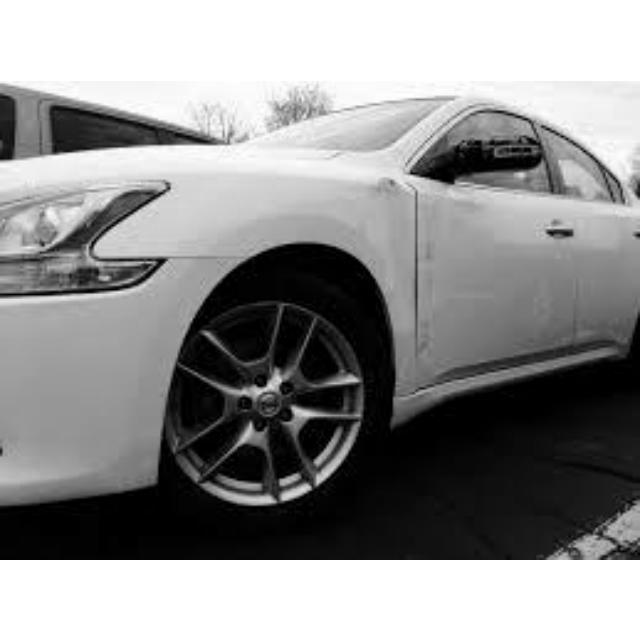doorouter-dent: (421, 192, 574, 377)
